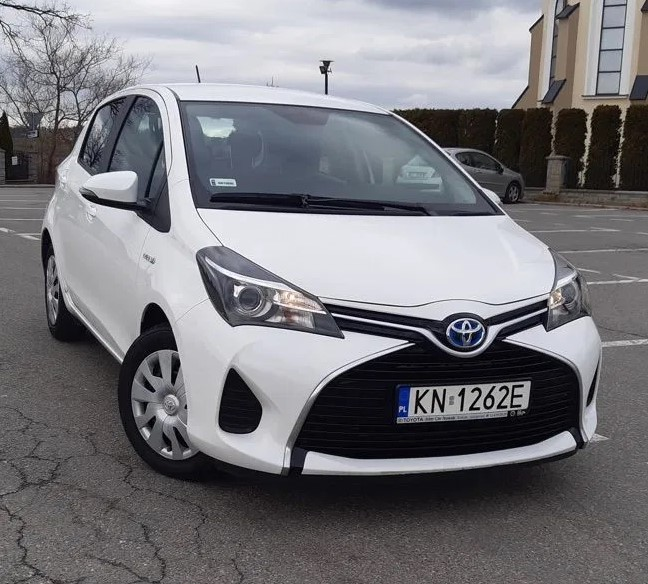number_plate: (387, 374, 542, 428)
